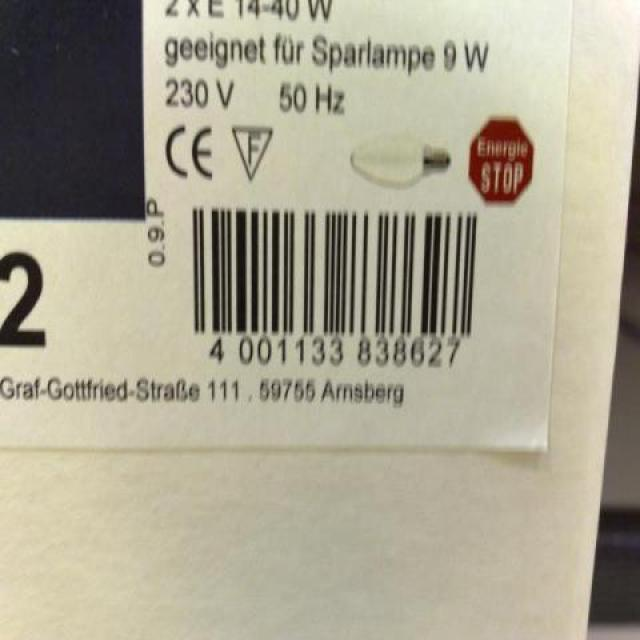Barcode: (179, 196, 485, 373)
